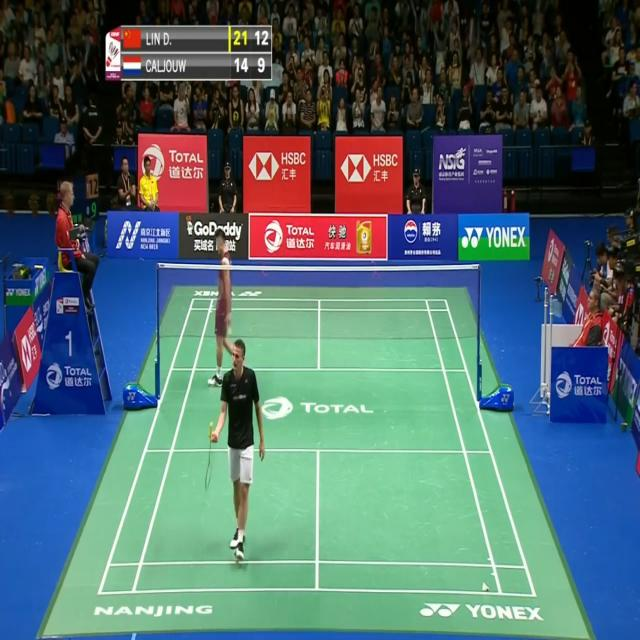Player1: (204, 335, 274, 571)
Player2: (208, 224, 242, 389)
